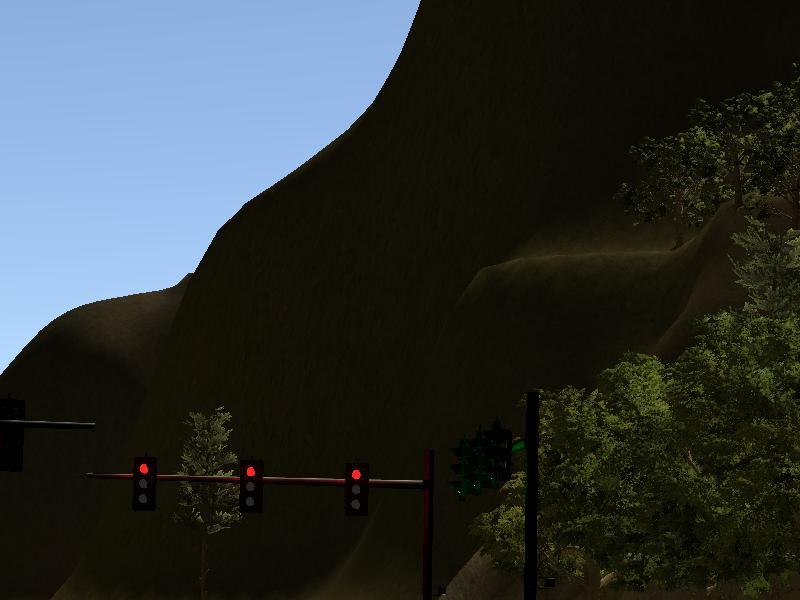Red: (131, 458, 156, 510), (346, 460, 369, 514), (240, 458, 262, 513)
